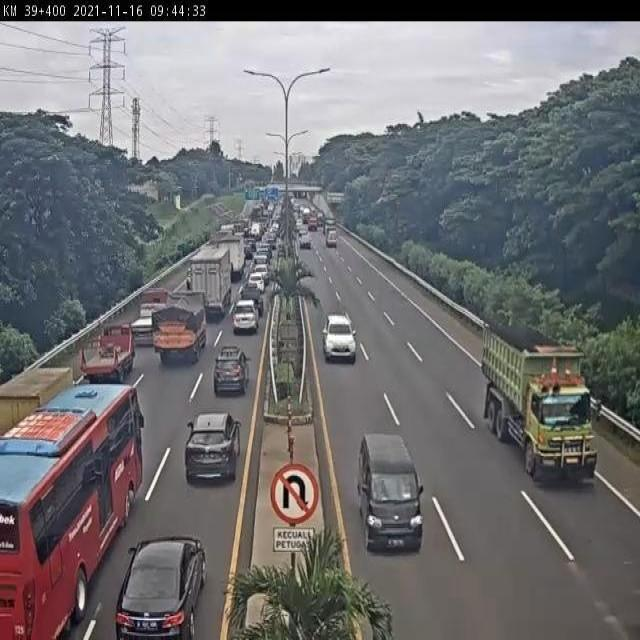Bus: (0, 381, 143, 640)
Car: (115, 535, 206, 638), (356, 433, 423, 551), (184, 413, 241, 485), (212, 345, 250, 396), (322, 312, 357, 363), (231, 300, 260, 334), (247, 271, 267, 295)
Truck: (481, 322, 599, 478), (151, 300, 207, 366), (82, 322, 136, 383), (190, 246, 232, 318)
